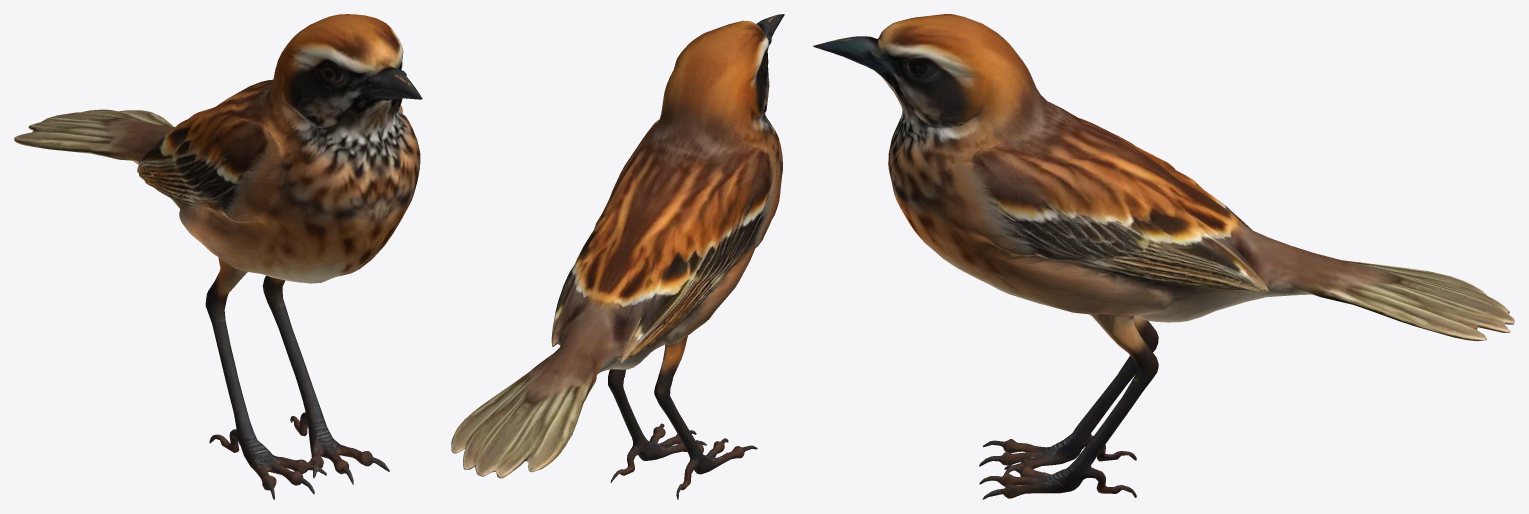
The model's file is bird-boomleeuwerik.glb.
3 renders of one model, left to right at view 1: azimuth 30°, elevation 25°; view 2: azimuth 150°, elevation 25°; view 3: azimuth 270°, elevation 25°, orthographic. The views are drawn at different scales.
Size of the model in its own units: 0.4801 by 1.38 by 1.91.
Materials: 1 (1 with a texture image).
